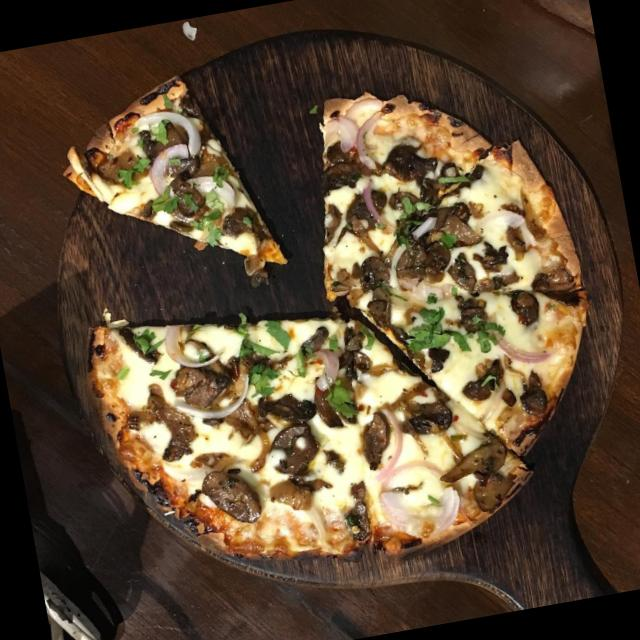mushrooms: (254, 391, 328, 513), (435, 423, 518, 519), (198, 462, 268, 531), (388, 230, 461, 292), (154, 148, 214, 223), (141, 392, 201, 460), (170, 355, 240, 411), (310, 357, 360, 427), (426, 197, 484, 256), (336, 185, 398, 239), (380, 138, 444, 190), (85, 141, 146, 186), (354, 406, 398, 468), (339, 478, 378, 546), (322, 151, 380, 195), (137, 116, 188, 165), (458, 352, 509, 401), (404, 394, 457, 438), (534, 264, 580, 310), (354, 251, 397, 296), (512, 368, 549, 418), (220, 206, 264, 248), (360, 290, 400, 334), (443, 250, 481, 296), (456, 287, 492, 332), (511, 285, 538, 326)
pizza: (94, 94, 587, 560), (60, 73, 288, 267)
